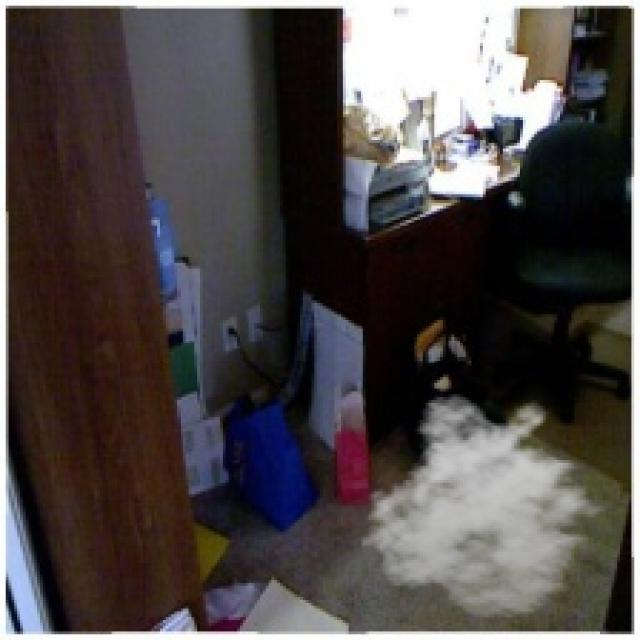Smoke: (357, 391, 620, 620)
